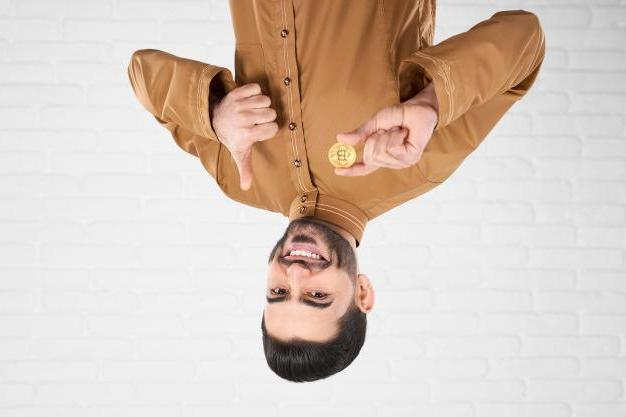thumbsdown: (227, 83, 279, 192)
